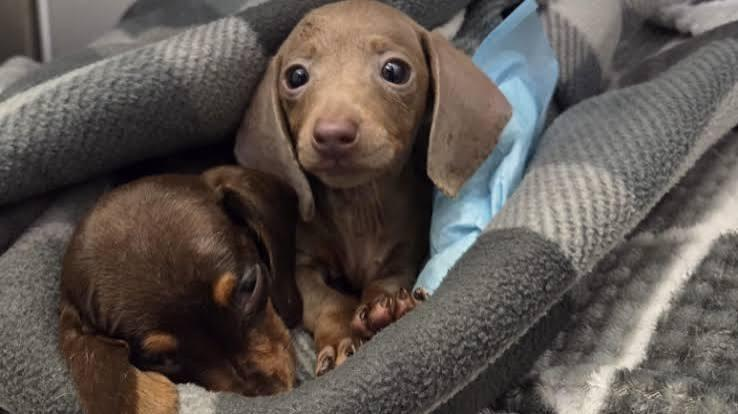puppy-dog: (237, 0, 514, 377), (56, 163, 310, 413)
